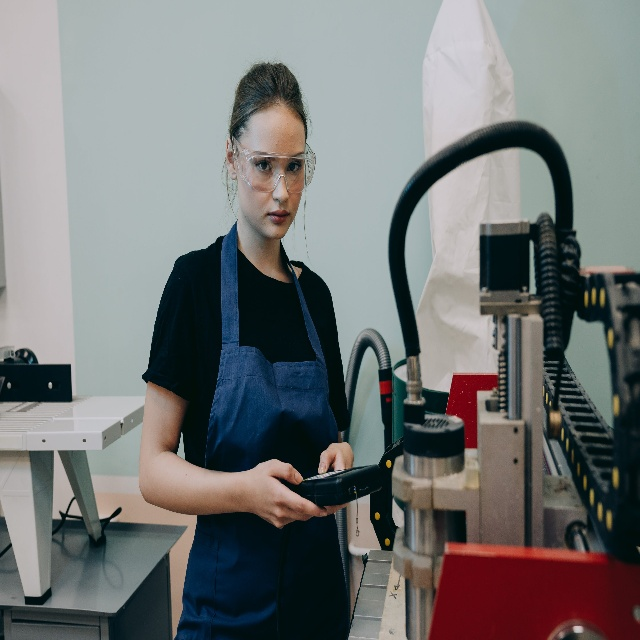Gafas: (230, 135, 317, 194)
Sin_guantes: (249, 458, 328, 529), (317, 440, 354, 515)
